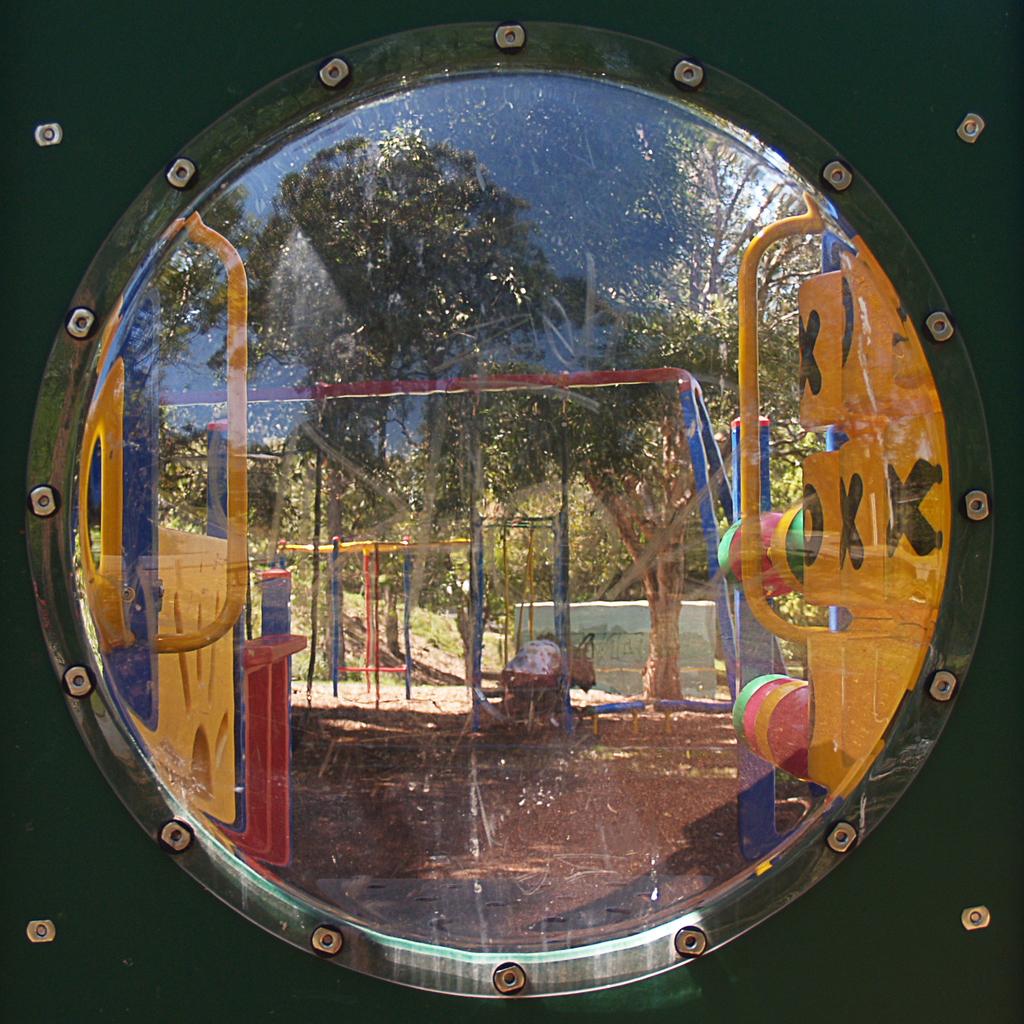Tree: (73, 76, 838, 714)
